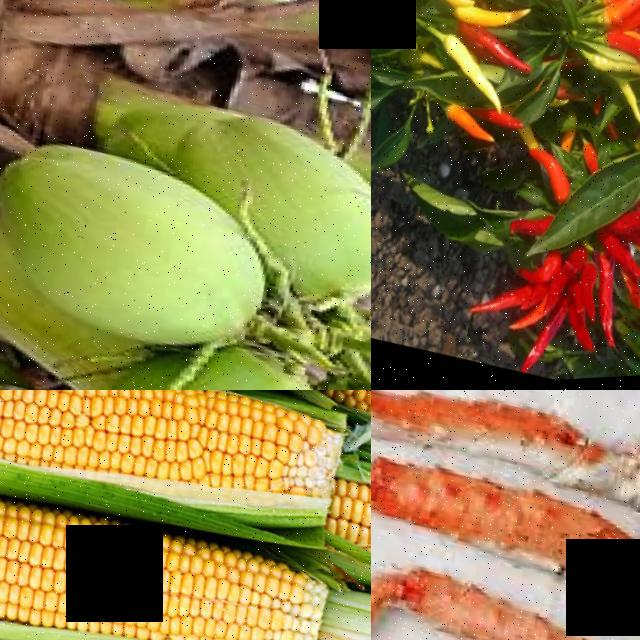chilli: (561, 257, 627, 363), (503, 144, 572, 215), (453, 24, 532, 84), (585, 27, 640, 99), (447, 0, 527, 42), (500, 322, 553, 384), (540, 301, 590, 361)
coconut: (0, 112, 291, 379), (169, 94, 371, 278), (49, 320, 351, 390)
corn: (0, 435, 331, 640), (0, 390, 353, 560), (306, 471, 371, 581), (329, 390, 371, 445)
crab: (371, 431, 640, 640), (371, 390, 640, 562), (371, 511, 640, 640)
